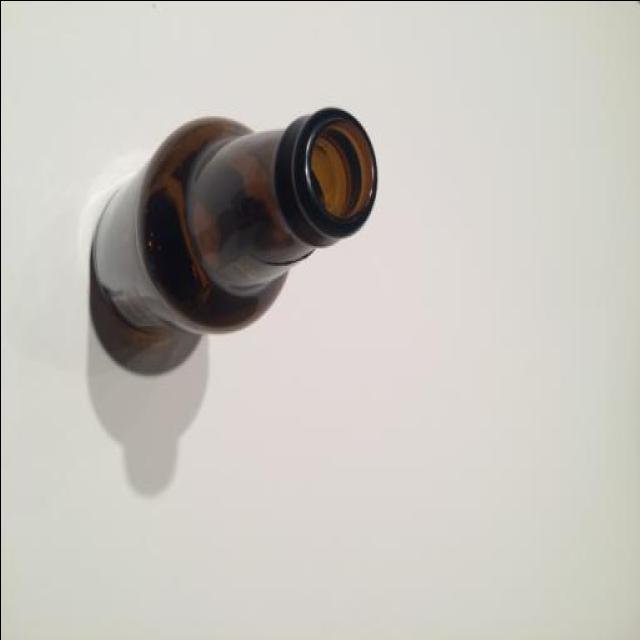glass: (53, 49, 385, 394)
